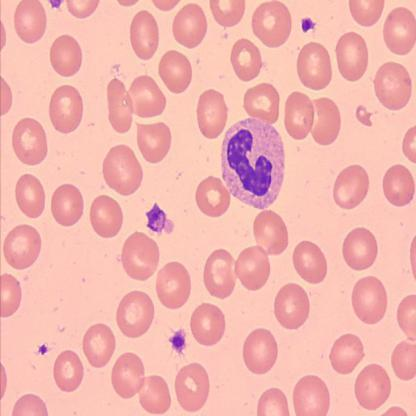Band Neutrophil: (219, 112, 287, 212)
